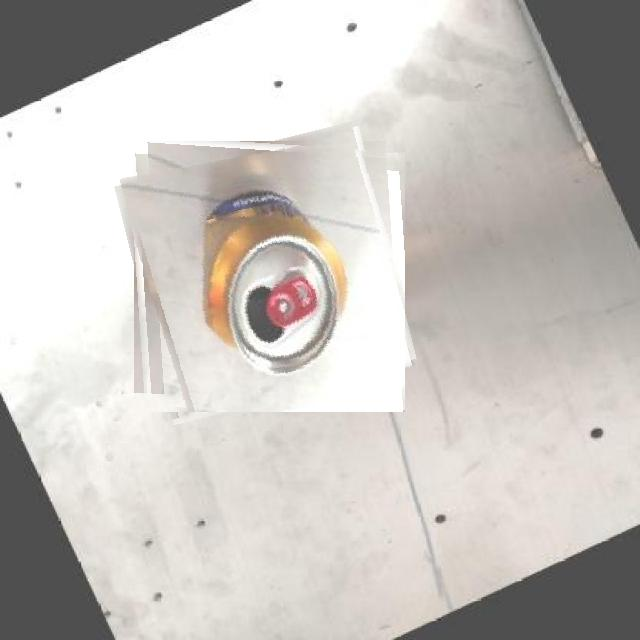recyclable: (127, 134, 405, 412)
